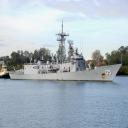Fragata: (8, 18, 124, 84)
